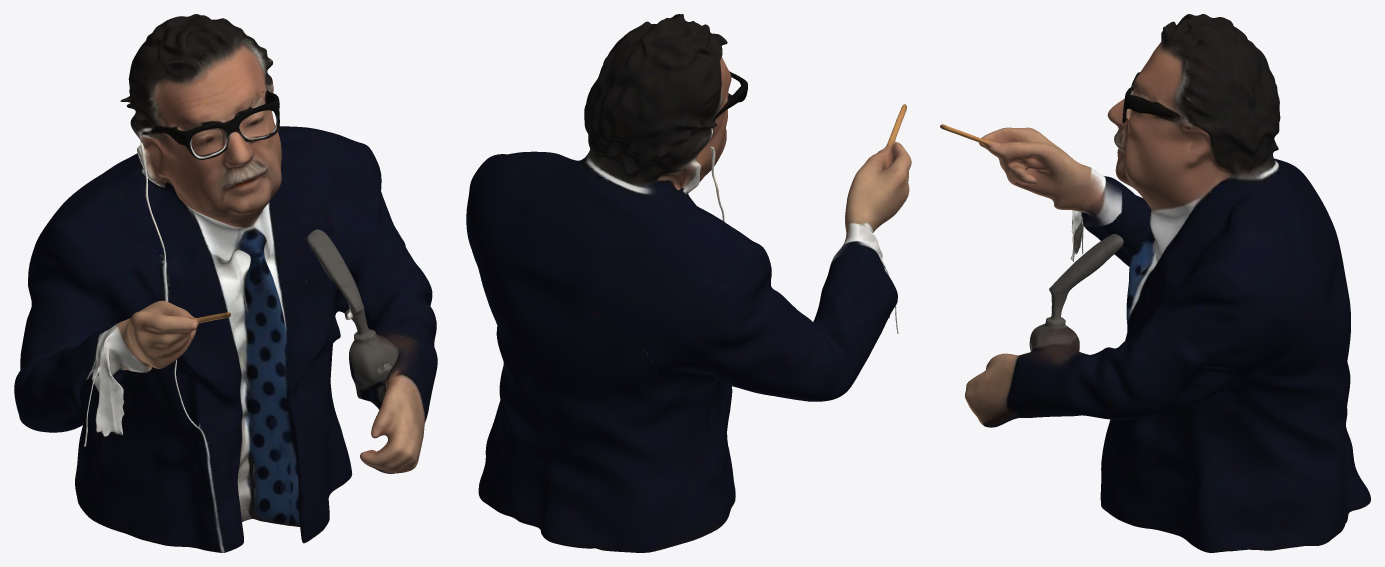
The model's file is salvador-allende2.glb.
3 renders of one model, left to right at view 1: azimuth 30°, elevation 25°; view 2: azimuth 150°, elevation 25°; view 3: azimuth 270°, elevation 25°, orthographic. The views are drawn at different scales.
Bounding box in the file's own units: 1.52 × 1.9 × 1.59.
Materials: 1 (1 with a texture image).
